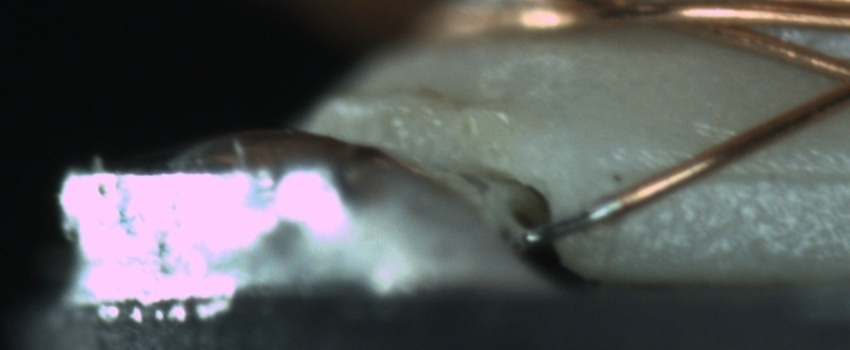DL: (678, 145, 847, 210)
TS: (522, 197, 623, 246)
